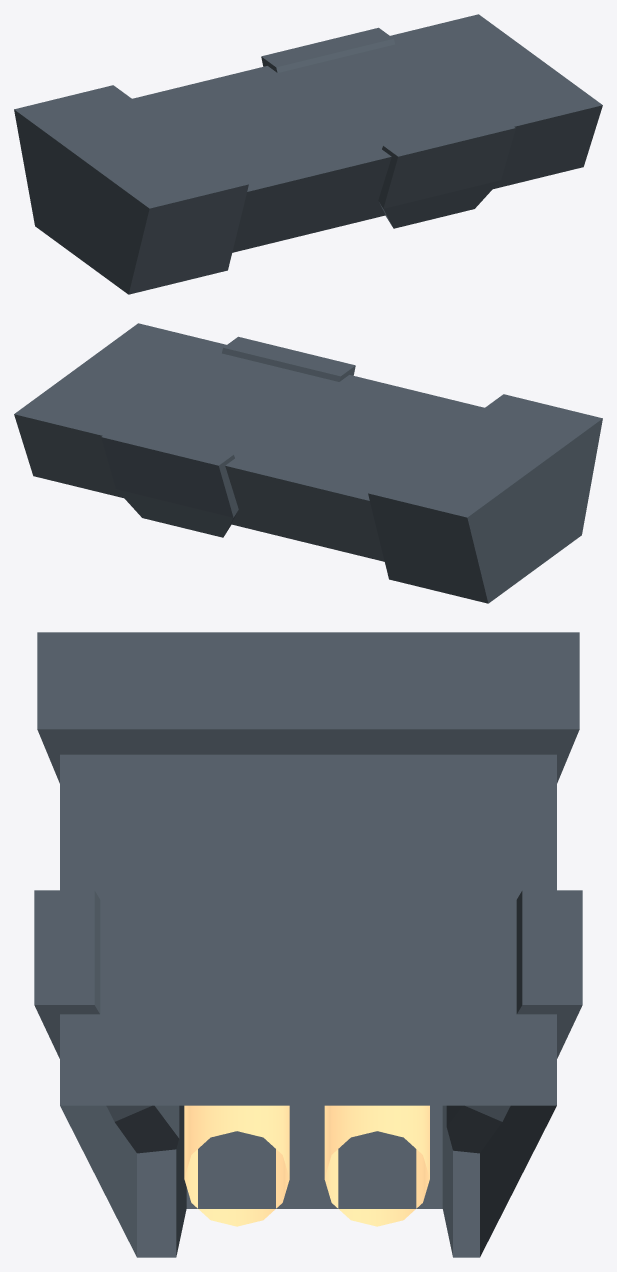
The model's file is mesh_lamp.glb.
3 views of the same model, one above another, from view 1: azimuth 30°, elevation 25°; view 2: azimuth 150°, elevation 25°; view 3: azimuth 270°, elevation 25° (orthographic). The views are drawn at different scales.
Parts seen in each view (by area): view 1: mesh_lamp; view 2: mesh_lamp; view 3: mesh_lamp.
Boxes of the visible parts, x1=… form: mesh_lamp: x1=14, y1=14, x2=602, y2=294; mesh_lamp: x1=14, y1=323, x2=602, y2=603; mesh_lamp: x1=34, y1=632, x2=582, y2=1257.
Bounding box in the file's own units: 0.8609 × 0.1819 × 0.4453.
